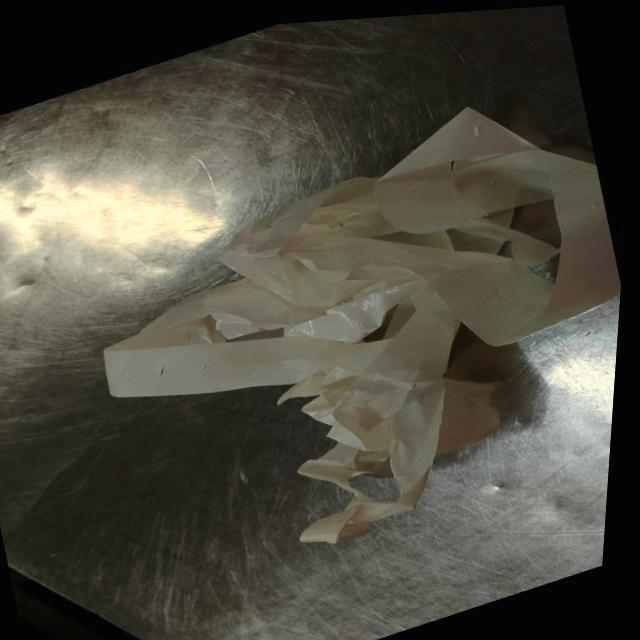Infectious: (103, 105, 620, 545)
